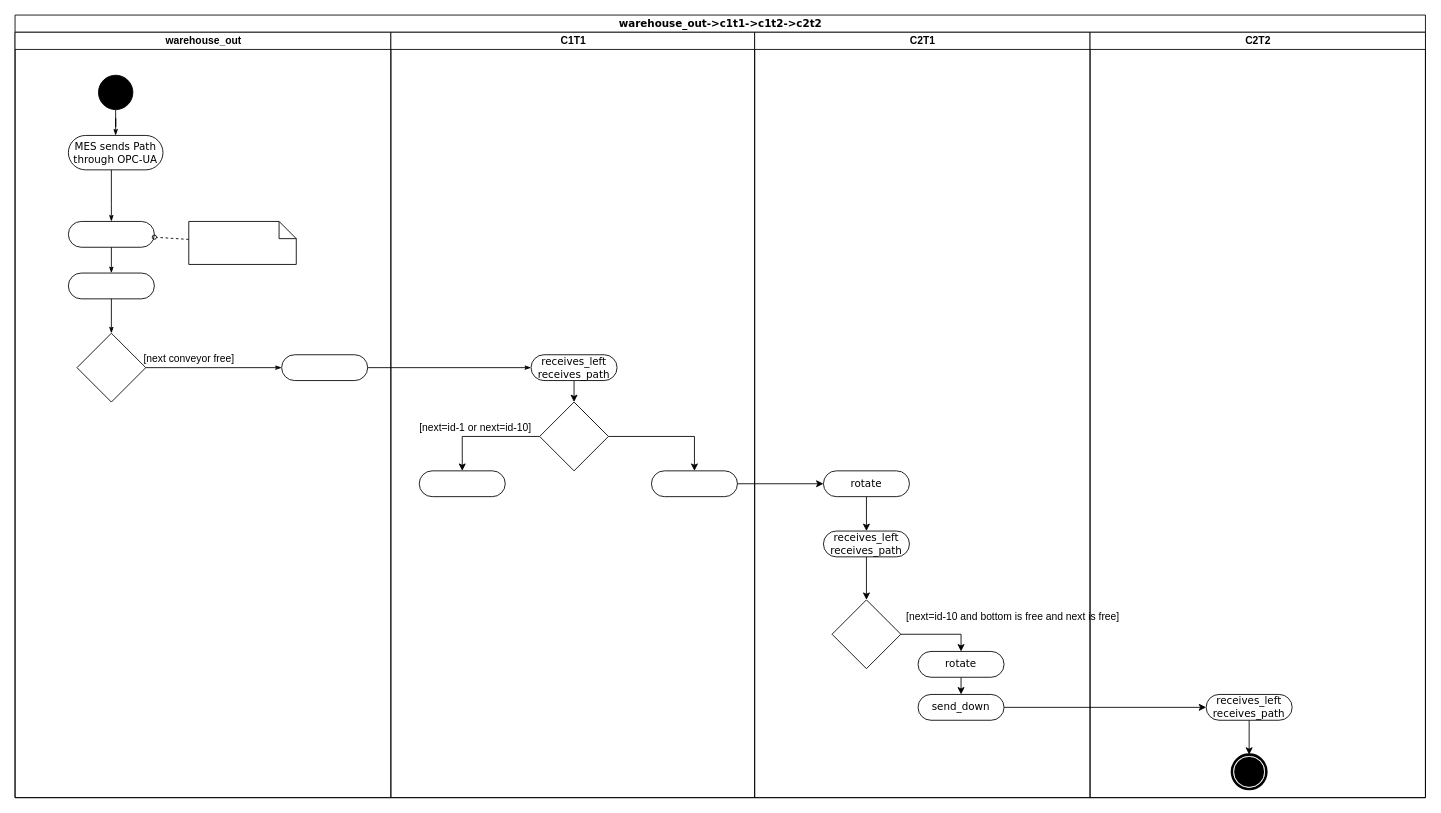
Some shapes in this 1441 by 813 pixel diagram are drawn without their labels. Here are the shapes that lost their labels. From the top down, the centre of each, then its label:
At (x=111, y=234): "verify Unit and Path".
At (x=242, y=242): "Checks whether Unit Type and path are valid".
At (x=111, y=285): "wareHouse_out getsUnit".
At (x=324, y=367): "wareHouse_out send right".
At (x=461, y=483): "send_left".
At (x=694, y=483): "send_right".
